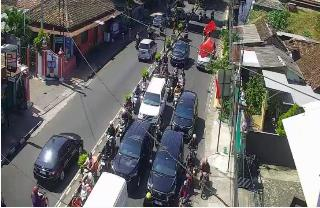mobil: (24, 128, 88, 190), (172, 91, 196, 139), (141, 78, 167, 120), (135, 38, 157, 62)
motor: (199, 156, 215, 198)
